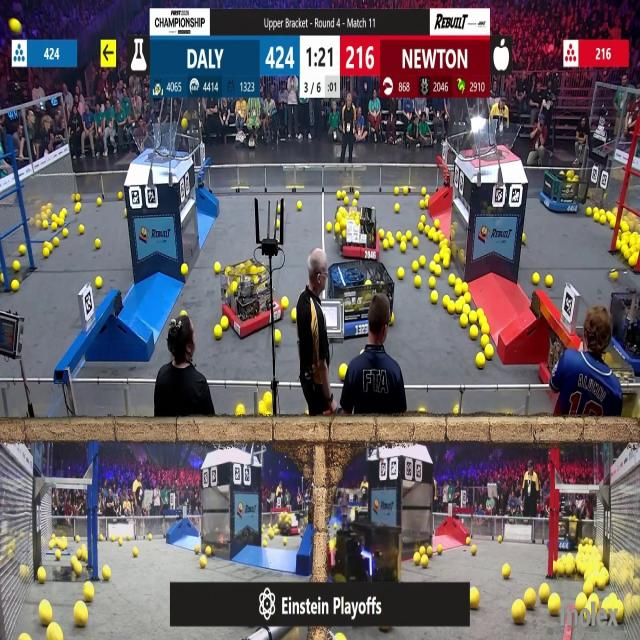ball_airborne: (10, 20, 20, 33), (184, 121, 190, 131)
ball_ground: (40, 604, 52, 628), (514, 602, 526, 626), (75, 605, 87, 629), (549, 596, 561, 616), (468, 588, 478, 610), (525, 590, 536, 608), (49, 626, 63, 640), (86, 584, 96, 603), (538, 586, 548, 602), (576, 594, 585, 611), (585, 582, 595, 596), (565, 564, 575, 578), (597, 574, 607, 588), (501, 564, 510, 579), (617, 606, 625, 622), (340, 364, 348, 378), (74, 562, 82, 576), (102, 566, 110, 580), (38, 568, 46, 582), (629, 258, 638, 270), (469, 325, 477, 338), (486, 346, 494, 359), (478, 354, 486, 367), (265, 392, 273, 405), (275, 332, 282, 346), (535, 274, 542, 288), (214, 326, 222, 338), (237, 406, 245, 418), (460, 315, 468, 327), (420, 556, 428, 568), (544, 276, 552, 287), (448, 304, 456, 315), (11, 280, 18, 292), (415, 276, 422, 288), (220, 318, 227, 330), (455, 303, 462, 315), (258, 404, 265, 416), (455, 284, 462, 296), (481, 336, 489, 346), (430, 291, 437, 302), (444, 294, 451, 305), (469, 313, 476, 324), (290, 310, 296, 322), (202, 556, 208, 568), (609, 272, 617, 281), (483, 324, 490, 334), (12, 263, 19, 273), (444, 258, 451, 268), (463, 292, 470, 302), (462, 305, 469, 315), (449, 276, 456, 286), (54, 238, 61, 248), (434, 266, 441, 276), (214, 264, 220, 275), (282, 296, 288, 307), (133, 548, 139, 559), (462, 282, 468, 293), (388, 240, 396, 248), (338, 574, 346, 582), (81, 552, 88, 561), (96, 278, 102, 288), (43, 248, 49, 258), (397, 269, 403, 279), (19, 245, 25, 255), (413, 263, 419, 273), (181, 266, 187, 276), (420, 256, 426, 266), (399, 243, 405, 253), (413, 238, 419, 248), (429, 278, 435, 288), (380, 230, 386, 240), (383, 240, 389, 250), (454, 407, 460, 417), (407, 232, 413, 242), (336, 222, 342, 232), (616, 240, 622, 250), (609, 218, 615, 228), (428, 264, 435, 272), (95, 240, 101, 249), (206, 546, 212, 555), (22, 634, 31, 640), (394, 204, 400, 213), (396, 233, 402, 242), (325, 222, 331, 231), (56, 551, 62, 560), (276, 219, 282, 228), (436, 546, 442, 555), (433, 219, 439, 228), (600, 214, 606, 223), (76, 554, 82, 563), (470, 544, 475, 554), (427, 544, 432, 554), (194, 544, 200, 552), (587, 208, 593, 216), (420, 201, 426, 209), (63, 230, 69, 238), (42, 220, 48, 228), (418, 223, 424, 231), (422, 187, 428, 195), (479, 310, 485, 318), (427, 233, 433, 241), (341, 232, 347, 240), (78, 224, 83, 233), (434, 254, 439, 263), (387, 232, 392, 241), (594, 213, 599, 222), (76, 203, 80, 214), (420, 215, 426, 222), (402, 187, 408, 194), (393, 187, 399, 194), (352, 200, 358, 207), (62, 210, 68, 217), (51, 222, 56, 230), (0, 274, 4, 284), (354, 190, 359, 198), (296, 202, 300, 211), (522, 235, 526, 244), (420, 409, 426, 415), (277, 206, 282, 213), (118, 538, 123, 545), (264, 540, 269, 547), (466, 536, 470, 544), (98, 199, 102, 207), (76, 192, 80, 200), (184, 308, 188, 316), (120, 194, 124, 202), (338, 190, 342, 198), (284, 537, 288, 545), (345, 198, 349, 206), (424, 224, 428, 232), (123, 209, 127, 217), (128, 534, 133, 540), (148, 537, 152, 544), (498, 535, 502, 542), (76, 535, 80, 542), (100, 534, 104, 540)
goal: (465, 120, 521, 160), (130, 130, 189, 159)
robot_blue: (318, 262, 378, 340), (610, 290, 640, 372), (540, 166, 582, 212), (557, 514, 582, 552)
robot_red: (220, 258, 278, 335), (338, 205, 378, 262), (274, 512, 299, 536)
